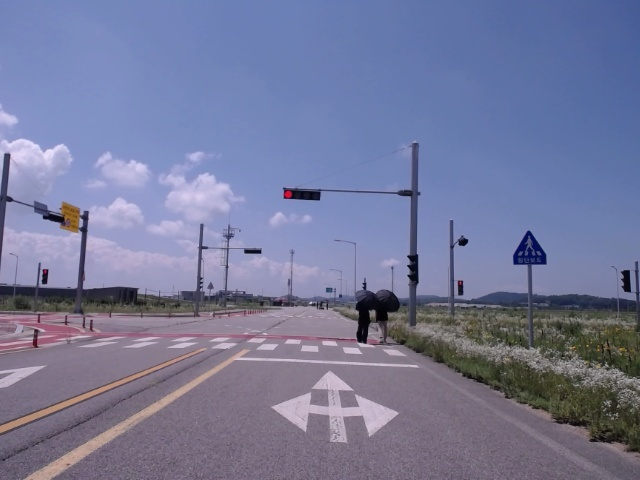red_4: (283, 190, 320, 201)
